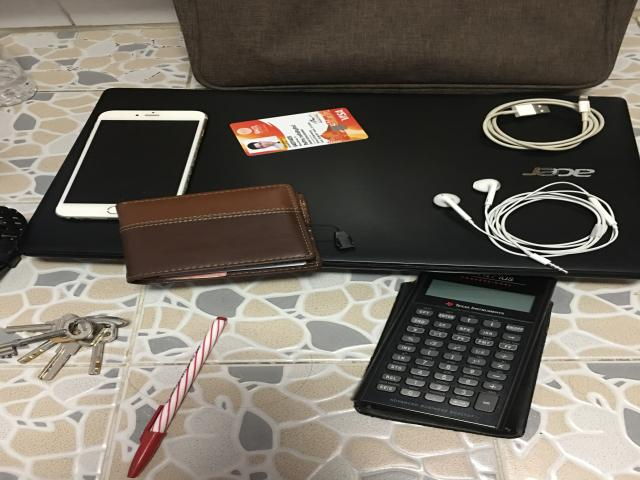Keys: (0, 314, 128, 381)
Mobile phone: (55, 111, 208, 222)
Pen: (127, 317, 227, 478)
Wallet: (117, 184, 322, 284)
Watch: (0, 206, 27, 277)
bottle: (0, 45, 37, 106)
wire: (433, 179, 618, 274), (483, 96, 605, 151)
